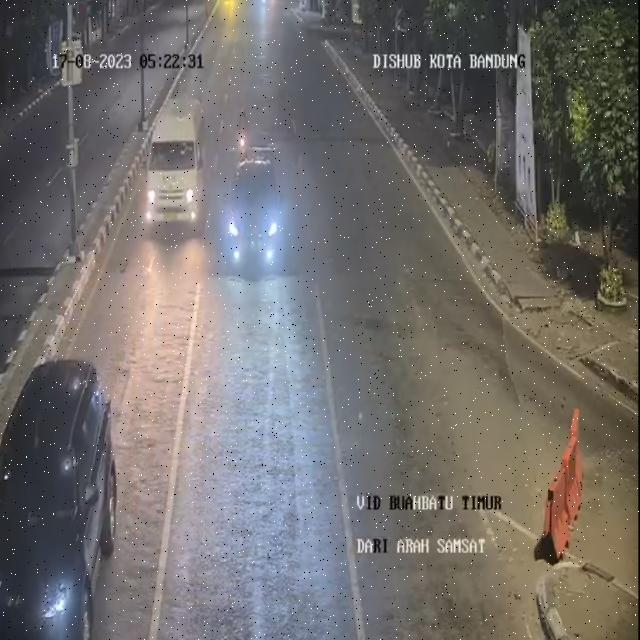cars: (0, 349, 119, 633), (149, 100, 204, 238), (226, 156, 286, 282)
motorcycle: (238, 104, 256, 180)
